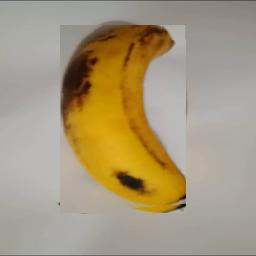Banana Semifresh: (61, 25, 187, 213)
